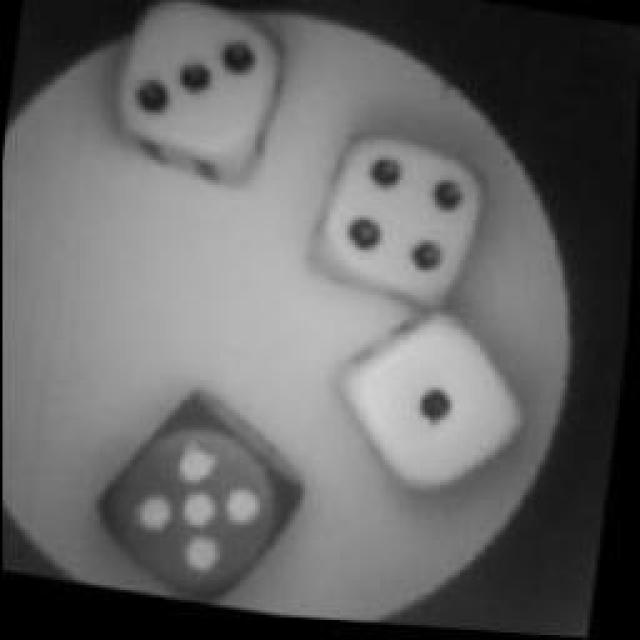dice_1: (344, 320, 524, 500)
dice_3: (102, 0, 292, 185)
dice_4: (320, 142, 495, 320)
dice_5: (99, 406, 309, 616)
